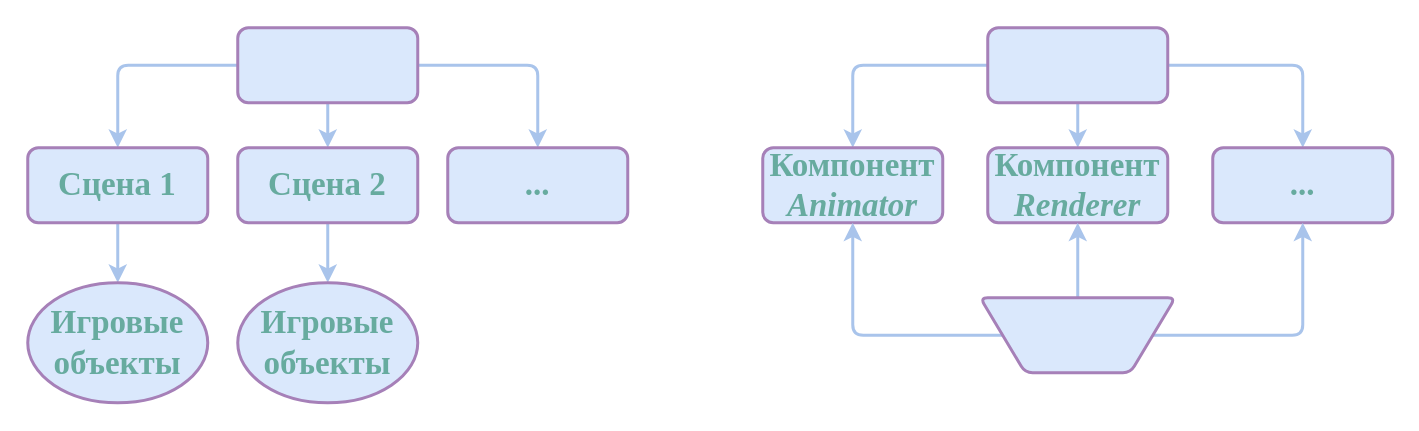
This 1419x431 diagram has some shape labels left out. Here are the shapes that lost their labels. From the top down, the box of each, then its label:
(236, 26, 418, 104): Unity Editor
(986, 26, 1168, 104): Игровой объект
(978, 296, 1176, 374): Скрипт модуля
